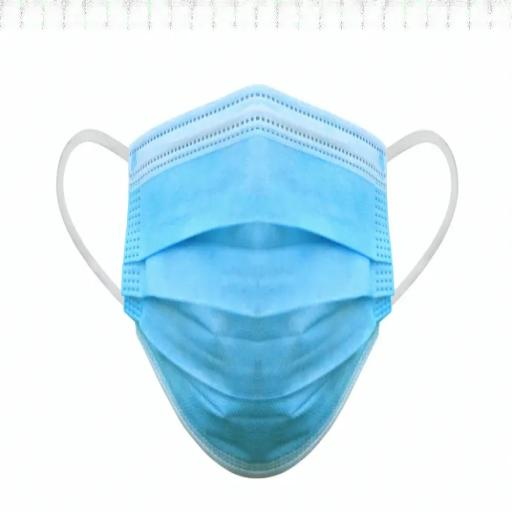mask: (124, 81, 406, 491)
